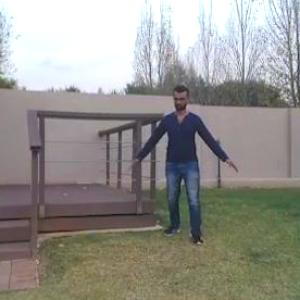land: (126, 74, 235, 261)
